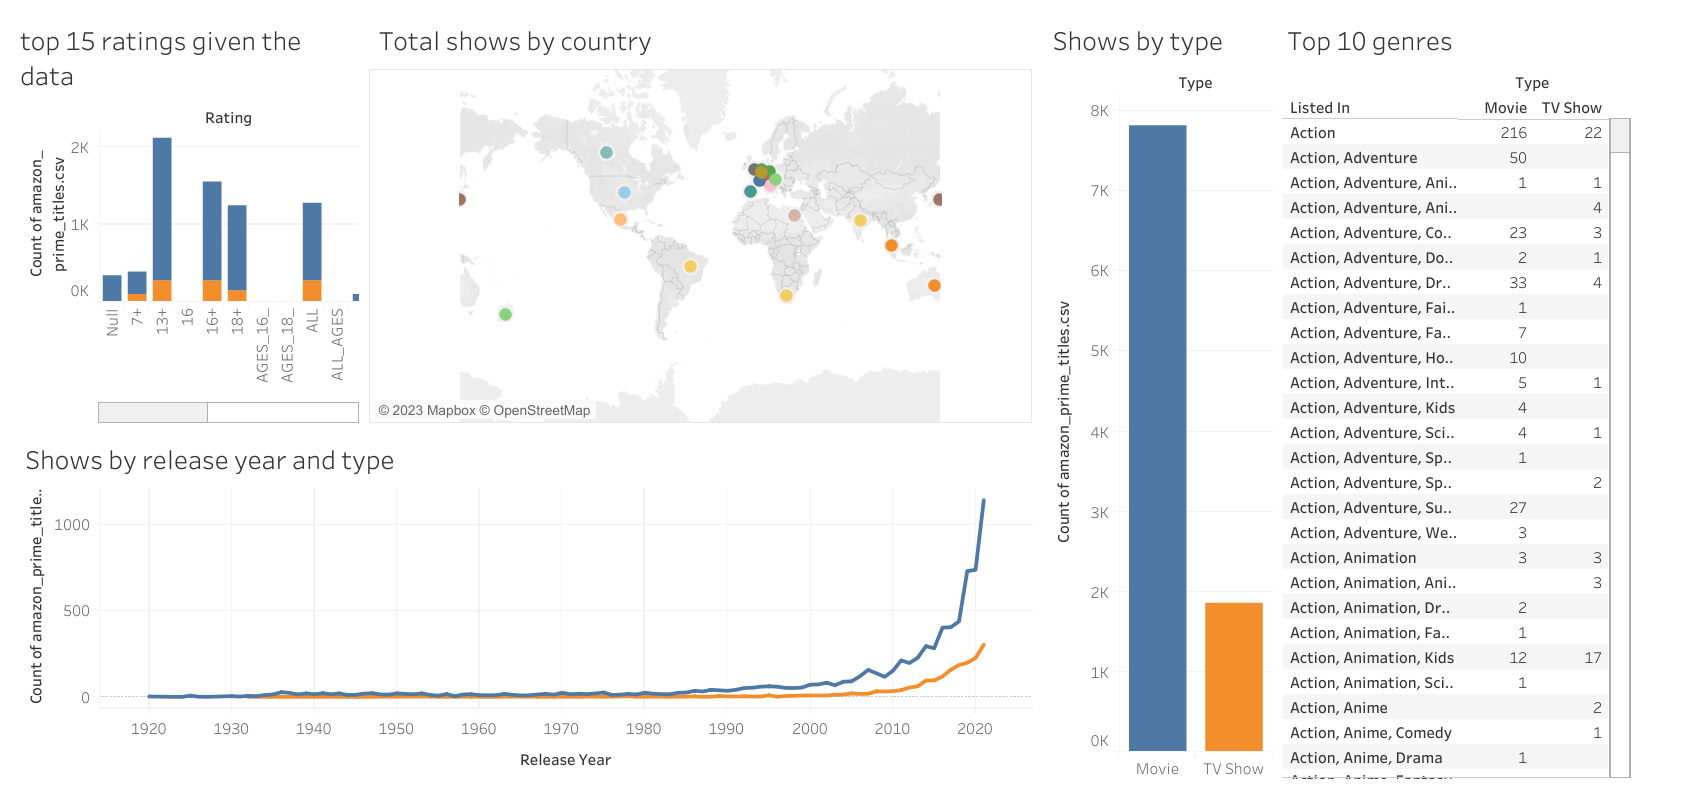

The dashboard page shown, as its layout file describes it:
{"tool":"tableau","page":{"name":"Dashboard 1","canvas":[1000,1000],"units":"permille","ordinal":0},"visuals":[{"type":"worksheet","title":"top 15 ratings given the data","mark":"Automatic","rows":["amazon_prime_titles.csv_B3B1BA8D30774D42B87D984A50E202CA"],"cols":["rating"],"box":[6.4,11.1,199.6,529]},{"type":"worksheet","title":" Total shows by country","mark":"Automatic","box":[206,11.1,381,529]},{"type":"worksheet","title":" Shows by type","mark":"Automatic","rows":["amazon_prime_titles.csv_B3B1BA8D30774D42B87D984A50E202CA"],"cols":["type"],"box":[587,11.1,152.5,977.7]},{"type":"worksheet","title":"Top 10 genres","mark":"Automatic","rows":["listed_in"],"cols":["type"],"box":[739.5,11.1,228.8,977.7]},{"type":"worksheet","title":" Shows by release year and type","mark":"Automatic","rows":["amazon_prime_titles.csv_B3B1BA8D30774D42B87D984A50E202CA"],"cols":["release_year"],"box":[6.4,540.1,580.6,448.8]}]}

Visuals, with their boxes on the dashboard's canvas, which has no fixed pixel size, in thousandths of its width and height (x1, y1, x2, y2). These are canvas units, not pixel positions in the 1686x793 screenshot, which may show the page scaled, cropped or inside an application window:
"top 15 ratings given the data" worksheet: BBox(6, 11, 206, 540)
" Total shows by country" worksheet: BBox(206, 11, 587, 540)
" Shows by type" worksheet: BBox(587, 11, 740, 989)
"Top 10 genres" worksheet: BBox(740, 11, 968, 989)
" Shows by release year and type" worksheet: BBox(6, 540, 587, 989)
